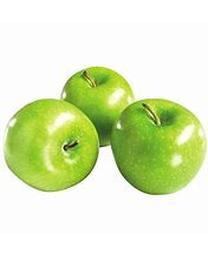apple: (109, 98, 206, 195), (2, 97, 99, 191), (60, 65, 133, 145)
